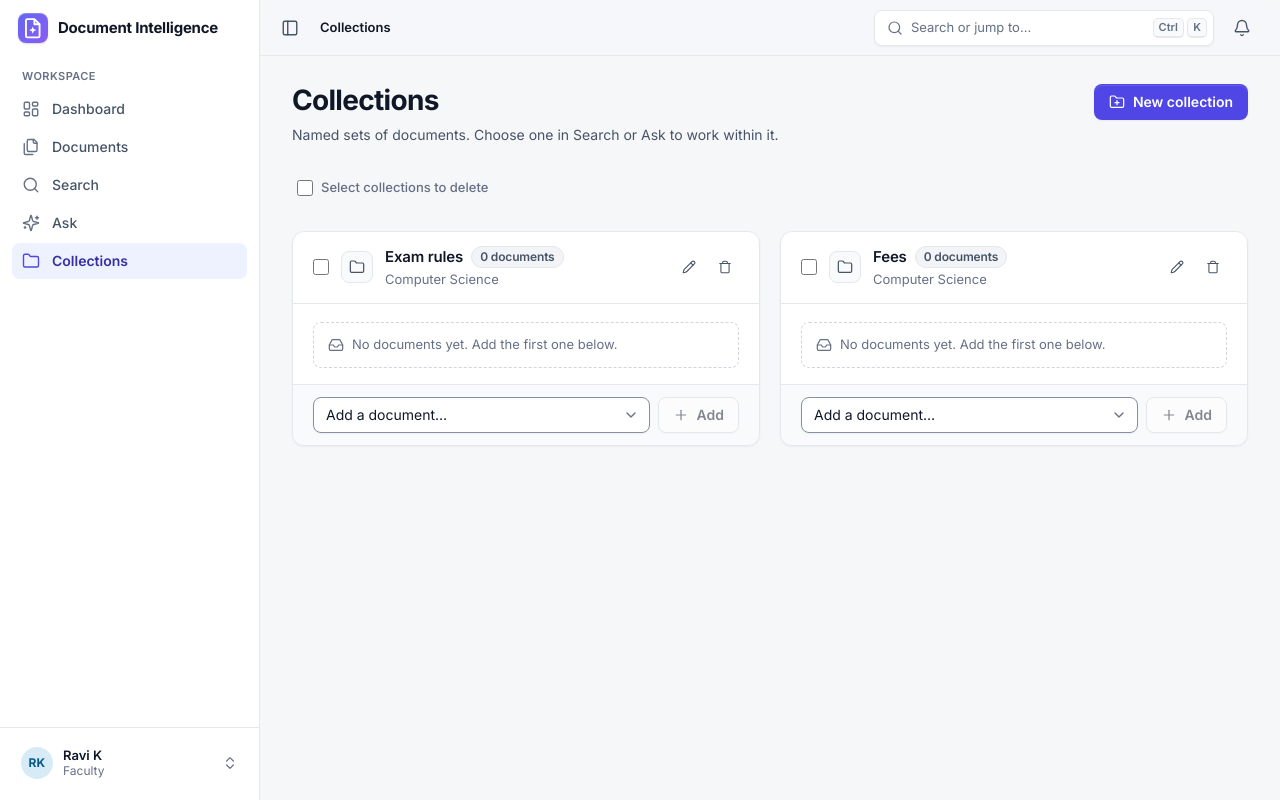
it: CollectionsPage bulk actions › shows a failed delete inside the dialog
Click the checkbox named "Select all collections" at (305, 188), box [297,180,313,196]
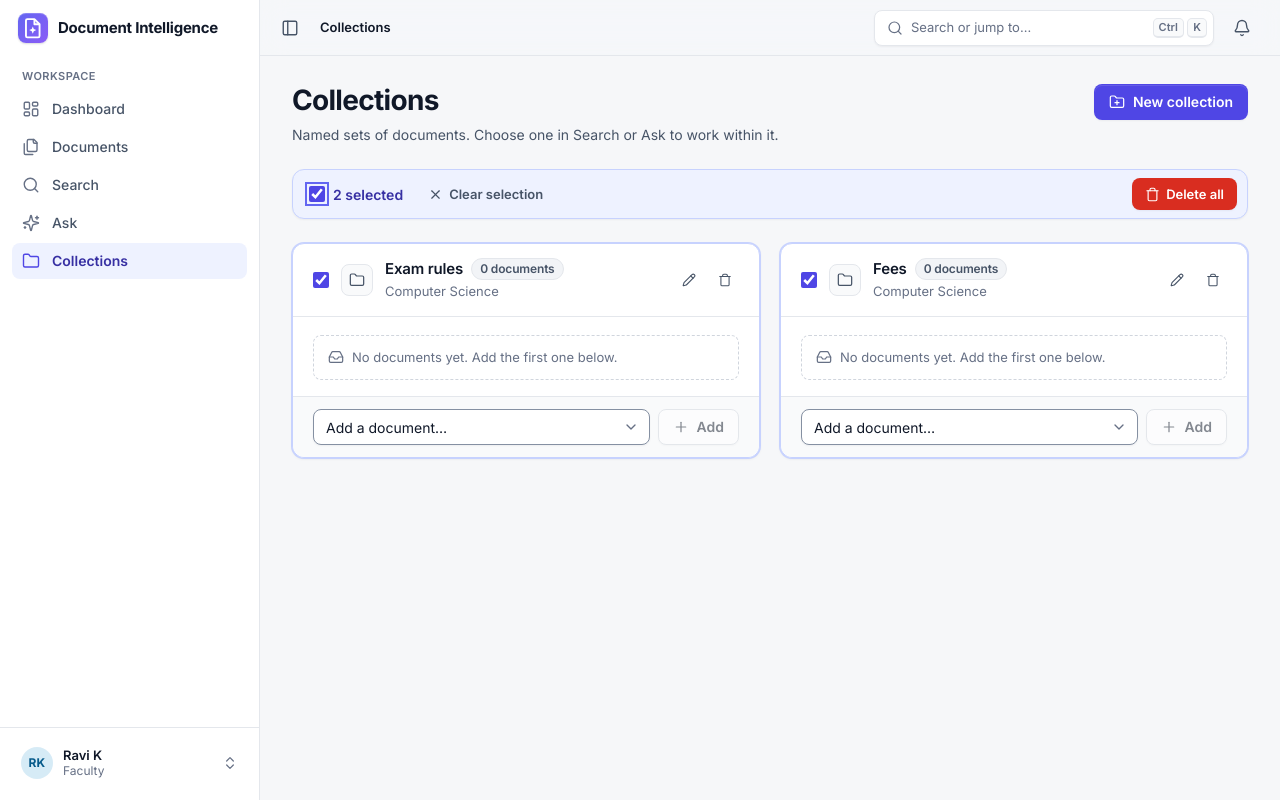
Click the button "Delete all" at (1185, 194), box [1132,178,1237,210]
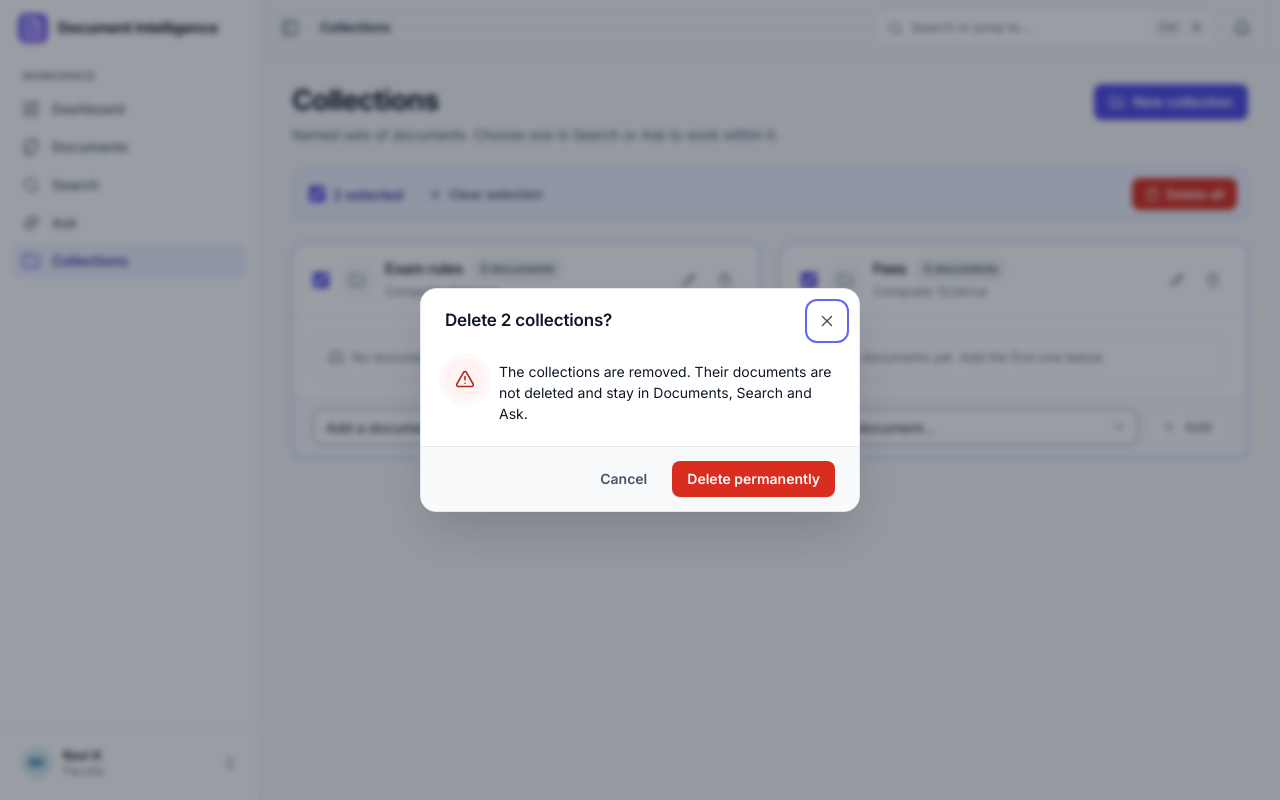
Click the button "Delete permanently" at (754, 479), box [672,461,835,497]
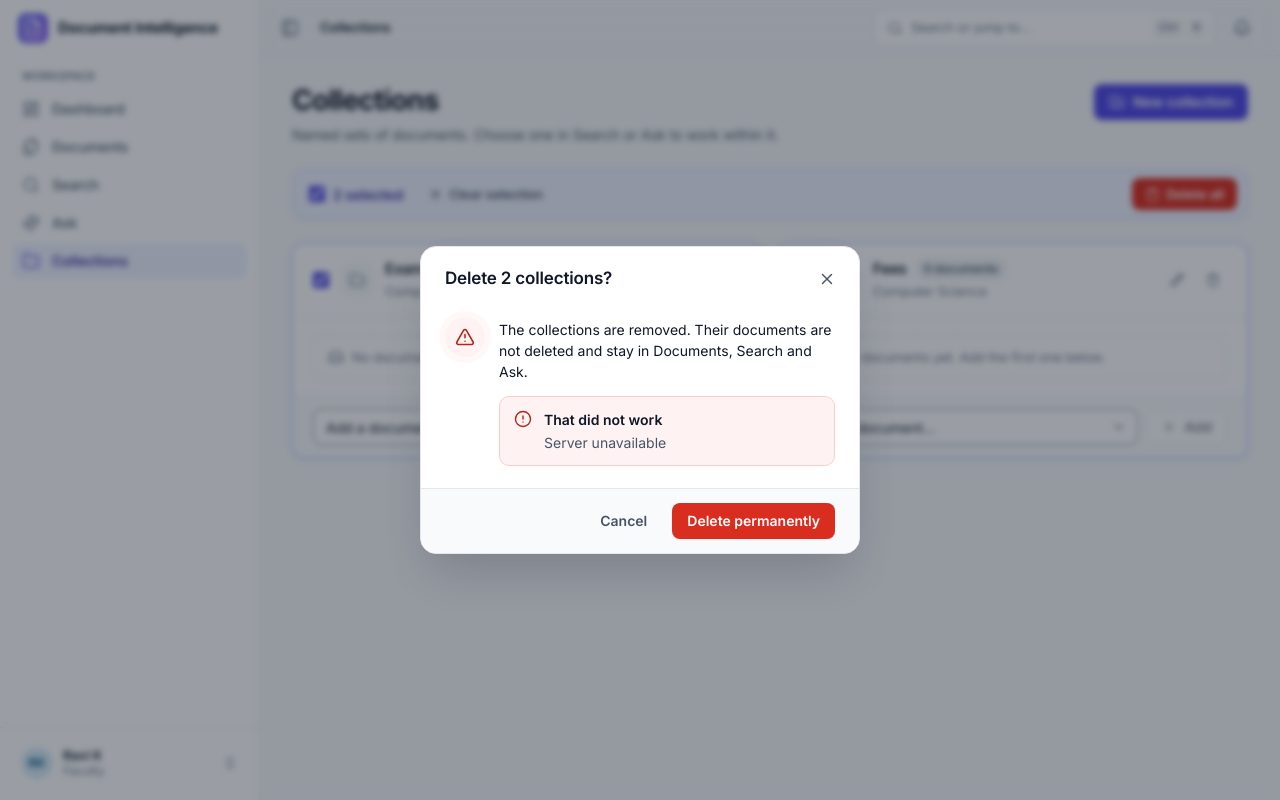
Now the text "That did not work" is shown, box [544,411,662,428]
